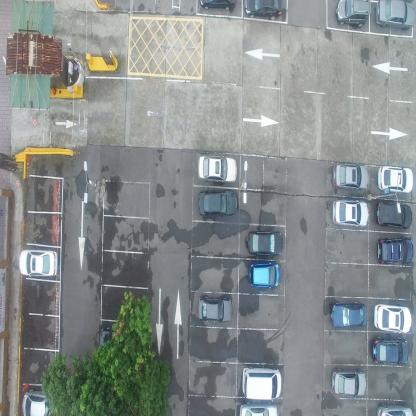car: (241, 364, 282, 400), (374, 0, 416, 29), (99, 326, 137, 358), (373, 303, 410, 335), (198, 154, 237, 184), (18, 248, 58, 277), (374, 201, 411, 232), (375, 236, 413, 266), (332, 197, 369, 227), (371, 336, 408, 366), (198, 188, 237, 216), (333, 162, 368, 192), (331, 368, 366, 398), (376, 167, 412, 196), (247, 228, 283, 257), (334, 0, 372, 27), (198, 294, 232, 324), (330, 301, 366, 328), (21, 388, 56, 415), (248, 261, 280, 288), (242, 0, 283, 20), (376, 402, 414, 416), (239, 402, 279, 415), (197, 0, 237, 11)
